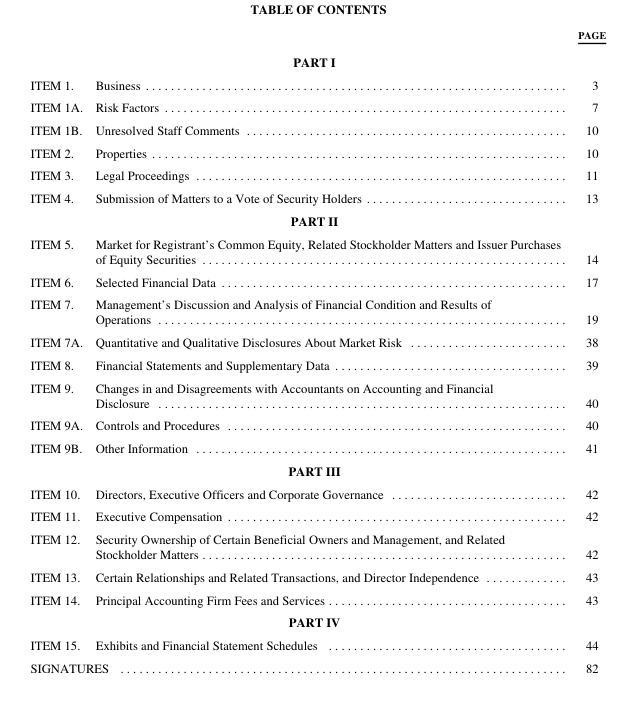table: (29, 28, 605, 674)
table column: (88, 28, 568, 674), (29, 28, 88, 674), (568, 28, 605, 674)
table column header: (29, 28, 605, 47)
table projected row header: (29, 47, 605, 72), (29, 610, 605, 633), (29, 209, 605, 231), (29, 459, 605, 481)
table row: (29, 231, 605, 269), (29, 292, 605, 330), (29, 375, 605, 413), (29, 527, 605, 565), (29, 47, 605, 72), (29, 72, 605, 95), (29, 95, 605, 118), (29, 118, 605, 141), (29, 163, 605, 186), (29, 186, 605, 209), (29, 269, 605, 292), (29, 330, 605, 353), (29, 413, 605, 436), (29, 436, 605, 459), (29, 481, 605, 504), (29, 504, 605, 527), (29, 565, 605, 588), (29, 610, 605, 633), (29, 633, 605, 656), (29, 141, 605, 163), (29, 209, 605, 231), (29, 353, 605, 375), (29, 459, 605, 481), (29, 588, 605, 610), (29, 28, 605, 47), (29, 656, 605, 674)
table spanning cell: (29, 656, 568, 674)
